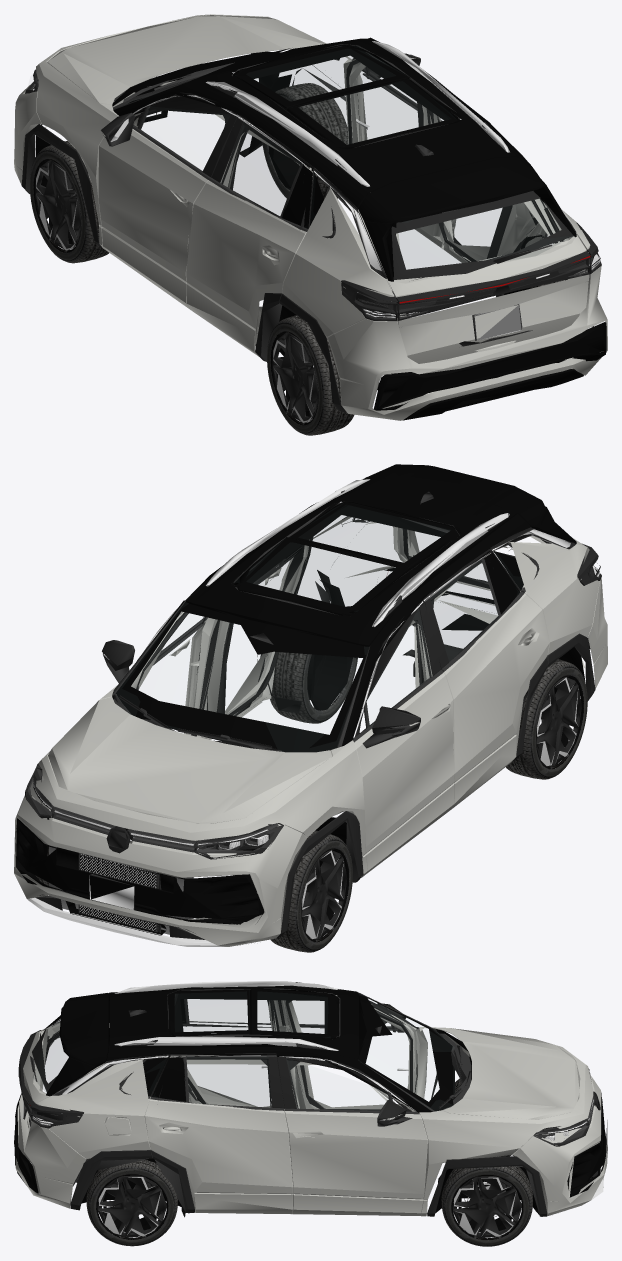
The picture shows the model from 3 angles, top to bottom: view 1: azimuth 30°, elevation 25°; view 2: azimuth 150°, elevation 25°; view 3: azimuth 270°, elevation 25°; orthographic projection. The views are drawn at different scales.
Visible parts, largest first — view 1: object 1, WHEEL_RL, WHEEL_FL, WHEEL_FR; view 2: object 1, WHEEL_RL, WHEEL_FL, WHEEL_RR; view 3: object 1, WHEEL_FR, WHEEL_RR.
Part boxes in pixels (x1,y1,x2,y2): object 1: [14, 14, 607, 420]; WHEEL_RL: [267, 315, 354, 435]; WHEEL_FL: [30, 141, 108, 263]; WHEEL_FR: [262, 83, 348, 198]; object 1: [14, 464, 607, 946]; WHEEL_RL: [506, 659, 587, 779]; WHEEL_FL: [264, 830, 352, 952]; WHEEL_RR: [270, 652, 357, 723]; object 1: [14, 981, 607, 1217]; WHEEL_FR: [441, 1156, 532, 1246]; WHEEL_RR: [86, 1159, 177, 1246].
Size of the model in its own units: 2.16 by 1.66 by 4.68.
Materials: 14 (4 with a texture image).
